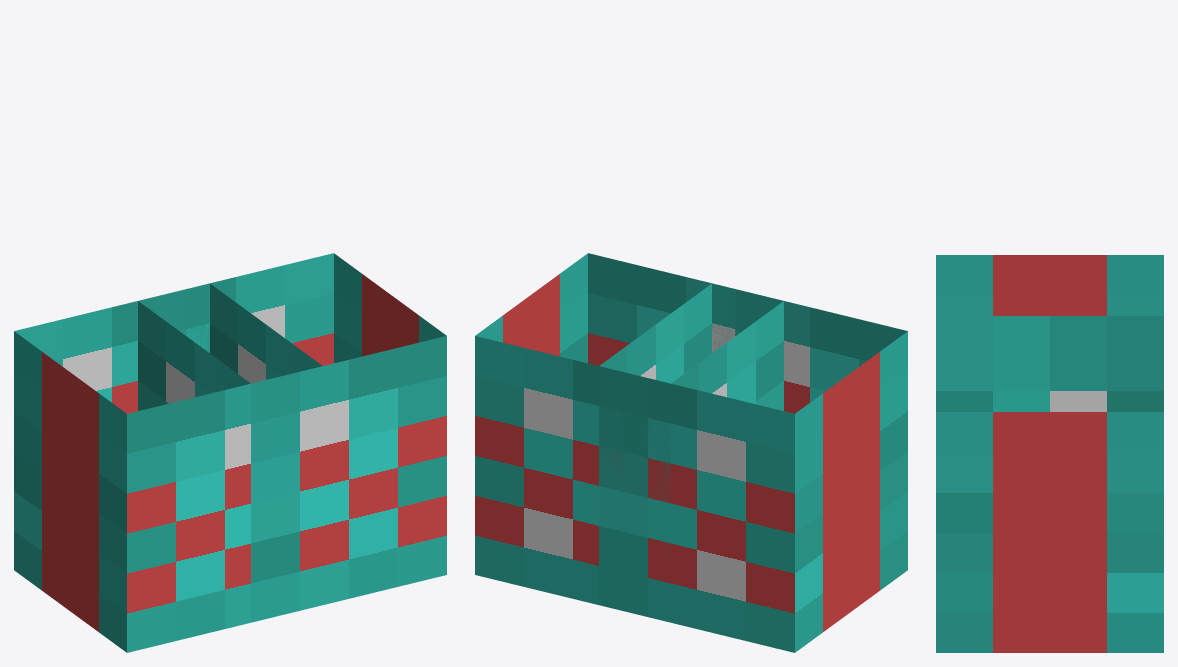
File: material_3_redstone.glb
3 views of the same model, side by side, from view 1: azimuth 30°, elevation 25°; view 2: azimuth 150°, elevation 25°; view 3: azimuth 270°, elevation 25° (orthographic).
Visible parts, largest first — view 1: Left Boot, Right Boot; view 2: Left Boot, Right Boot; view 3: Right Boot, Left Boot.
Part boxes in pixels (bbox=[...]): Left Boot: bbox=[14, 283, 322, 652]; Right Boot: bbox=[138, 253, 446, 622]; Left Boot: bbox=[599, 283, 907, 652]; Right Boot: bbox=[475, 253, 783, 604]; Right Boot: bbox=[936, 316, 1163, 652]; Left Boot: bbox=[936, 255, 1163, 411].
Size of the model in its own units: 0.6125 by 0.875 by 0.375.
Materials: 1 (1 with a texture image).
